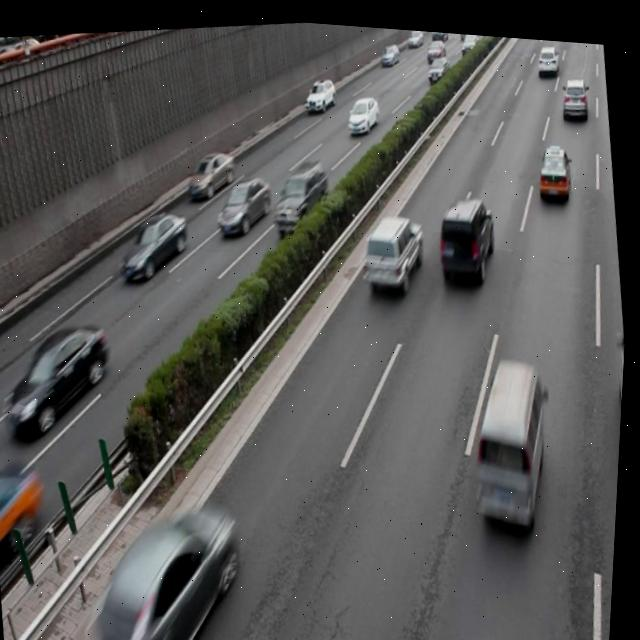car: (86, 486, 255, 640), (3, 314, 121, 441), (116, 200, 196, 285), (432, 184, 502, 280), (358, 201, 430, 294), (268, 152, 336, 234), (213, 168, 278, 238), (183, 142, 239, 202), (533, 132, 575, 197), (345, 87, 382, 130), (302, 70, 337, 109)
truck: (464, 344, 562, 526), (607, 307, 629, 463)
